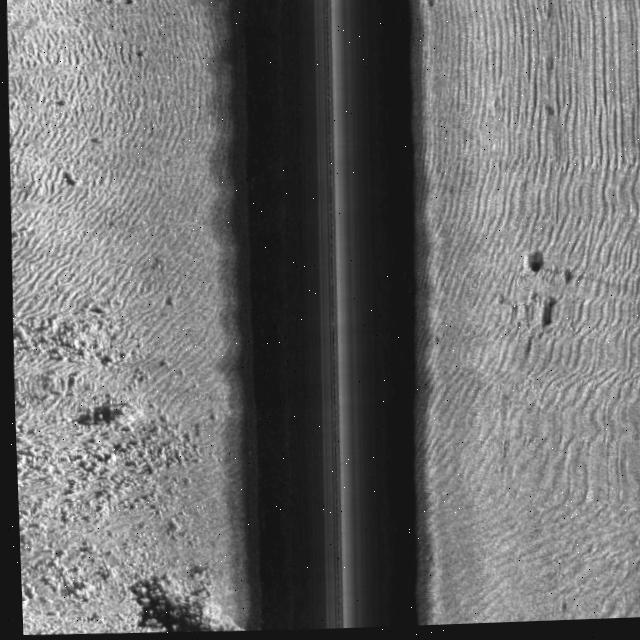artificial reef: (195, 588, 245, 633)
